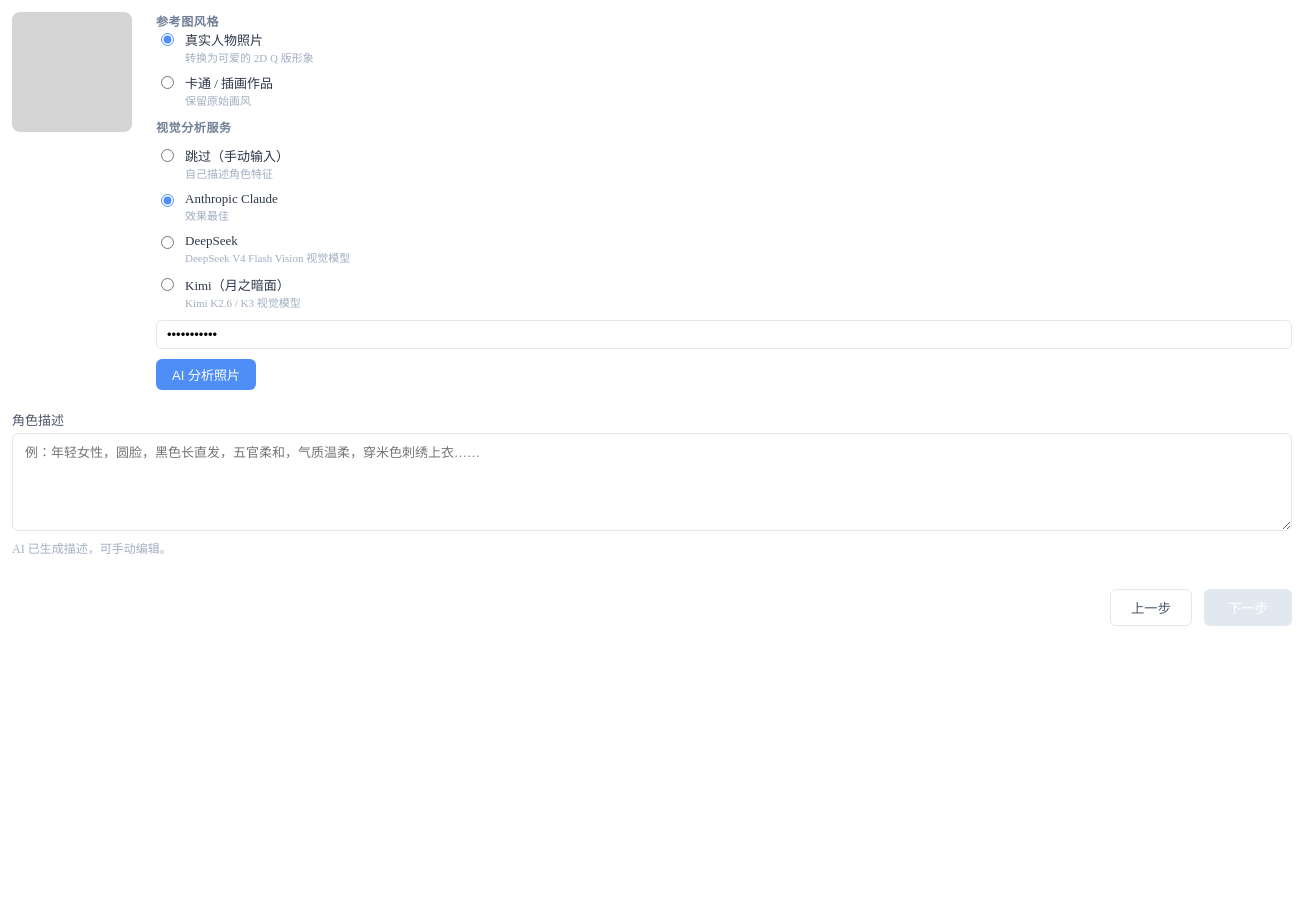
Test case: AnalyzeStep › fills prompt textarea after successful analysis
Click the button "AI 分析照片": (206, 374) [156,359,256,390]
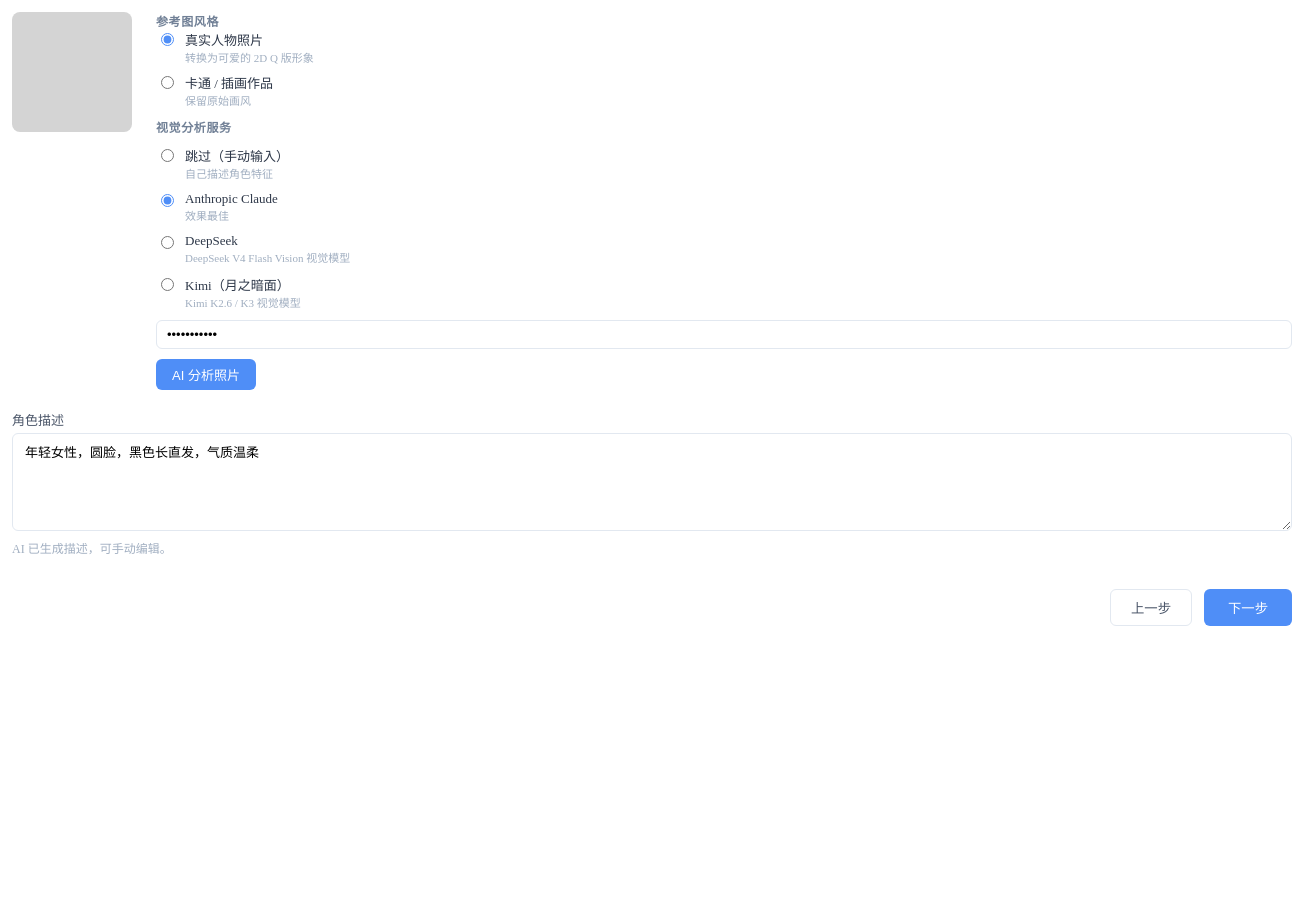
Now the text box labelled "角色描述" holds "年轻女性，圆脸，黑色长直发，气质温柔", box [12,433,1292,531]
